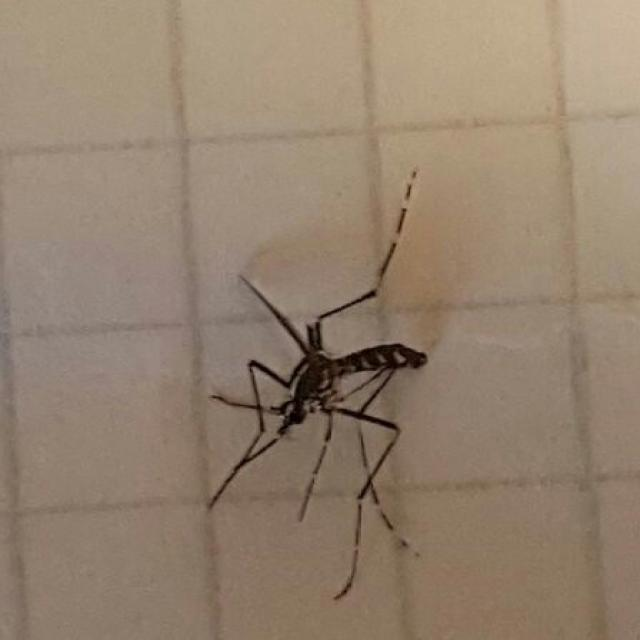albopictus: (183, 158, 450, 617)
